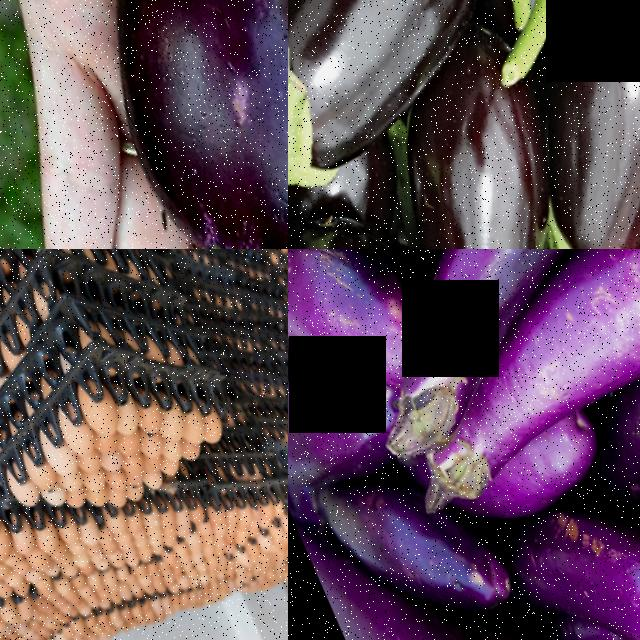egg_: (75, 377, 126, 438), (62, 417, 101, 462), (155, 403, 193, 444), (47, 440, 82, 480), (112, 395, 147, 435), (179, 410, 213, 447), (29, 460, 60, 495), (36, 521, 66, 556), (78, 516, 108, 551), (10, 524, 41, 557), (0, 524, 21, 564)
eggplant: (45, 0, 288, 249), (340, 66, 640, 249), (288, 0, 549, 202), (327, 249, 542, 465), (487, 0, 640, 249), (288, 249, 428, 437)
